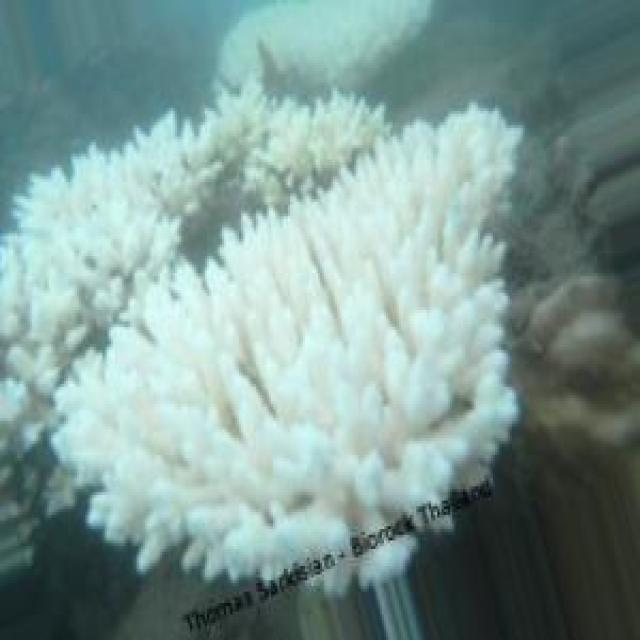bleached coral: (66, 215, 516, 577), (356, 107, 520, 438), (0, 138, 176, 399), (188, 85, 387, 182), (117, 472, 269, 566), (239, 253, 331, 373), (218, 91, 380, 154), (341, 174, 416, 287), (444, 114, 499, 253), (401, 313, 461, 438), (258, 3, 367, 71), (128, 333, 211, 421), (265, 418, 378, 478), (2, 370, 64, 447), (105, 176, 171, 245), (68, 404, 119, 464), (23, 182, 70, 230), (79, 353, 98, 381)
